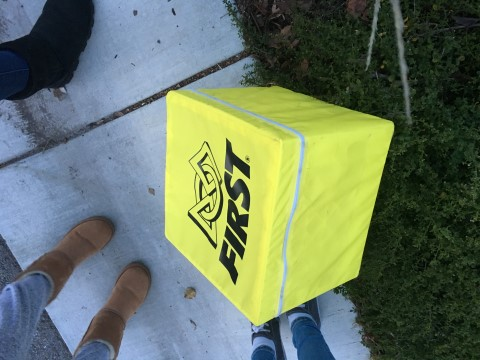cube: (164, 86, 395, 325)
